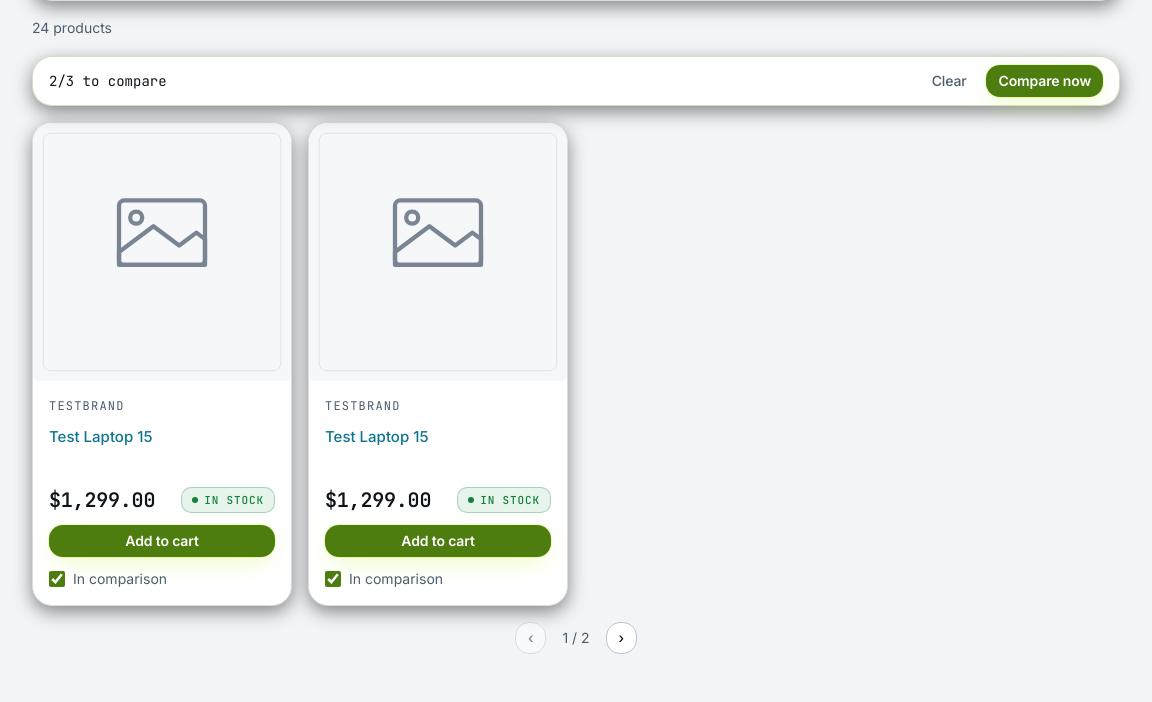
Test: ProductListView › clears the compare selection when the page changes
The image size is (1152, 702).
(page scrolled)
Expected: the text "2/3 to compare" is shown, [49, 70, 167, 92]
…but paging to another grid resets it (the bar unmounts at 0).
Step 1. Click the button "›" → (621, 638), box [606, 622, 637, 654]
(page scrolled)
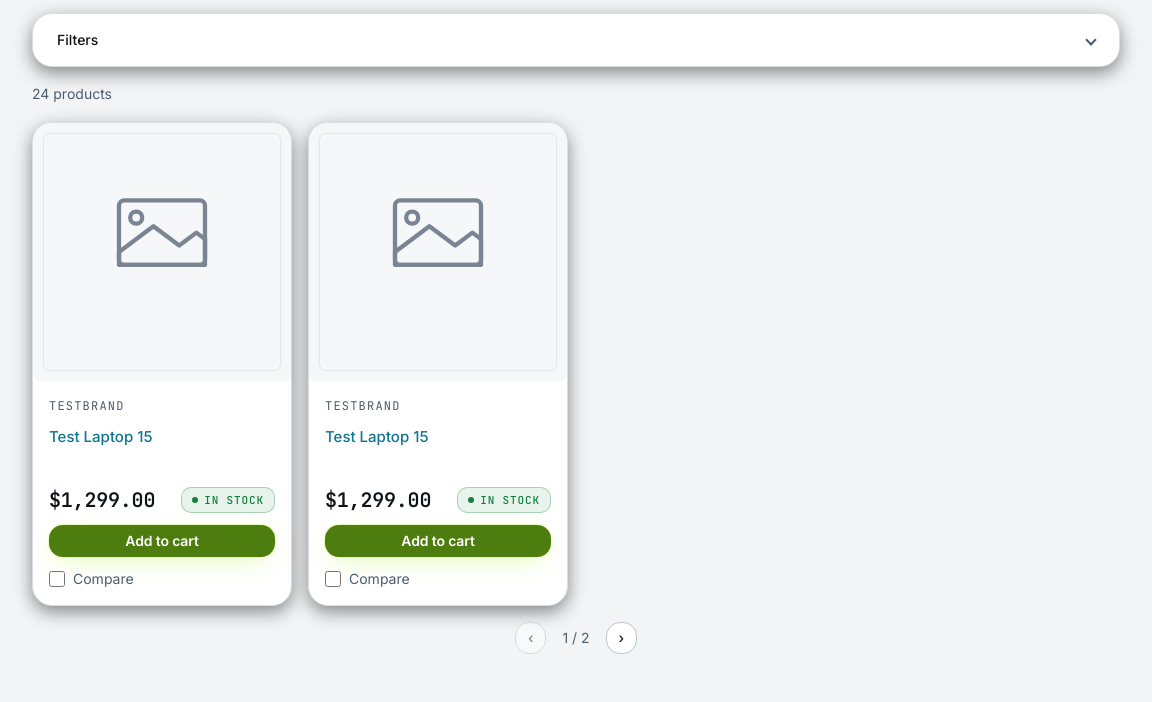
Expected: the text "2/3 to compare" is gone
